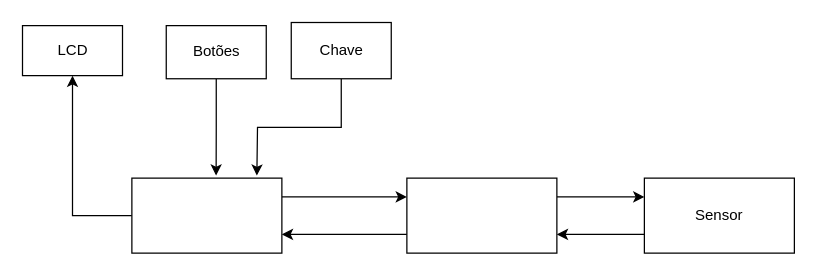
This 816x275 diagram has some shape labels left out. The shapes that lost their labels are listed below. From the top down, each one's box as (x1, y1, x2, y2) in pixels, then its label:
(131, 177, 282, 253): OrangePi
(406, 177, 557, 253): ESP
